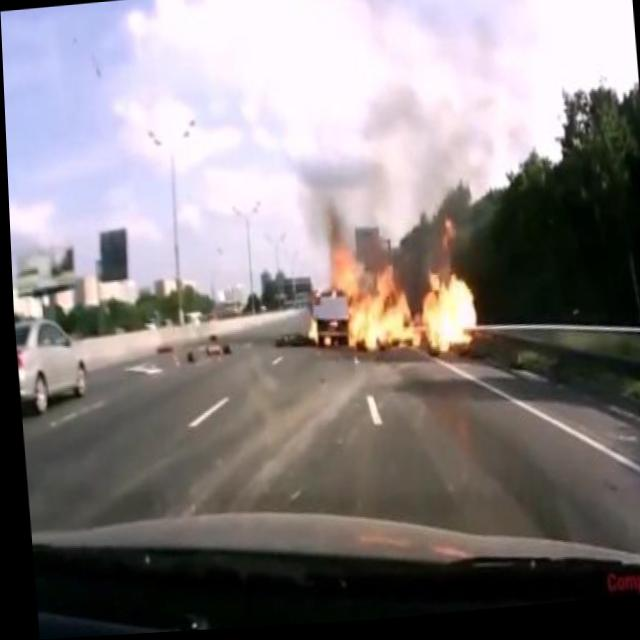fire: (324, 215, 476, 375), (302, 313, 317, 349)
